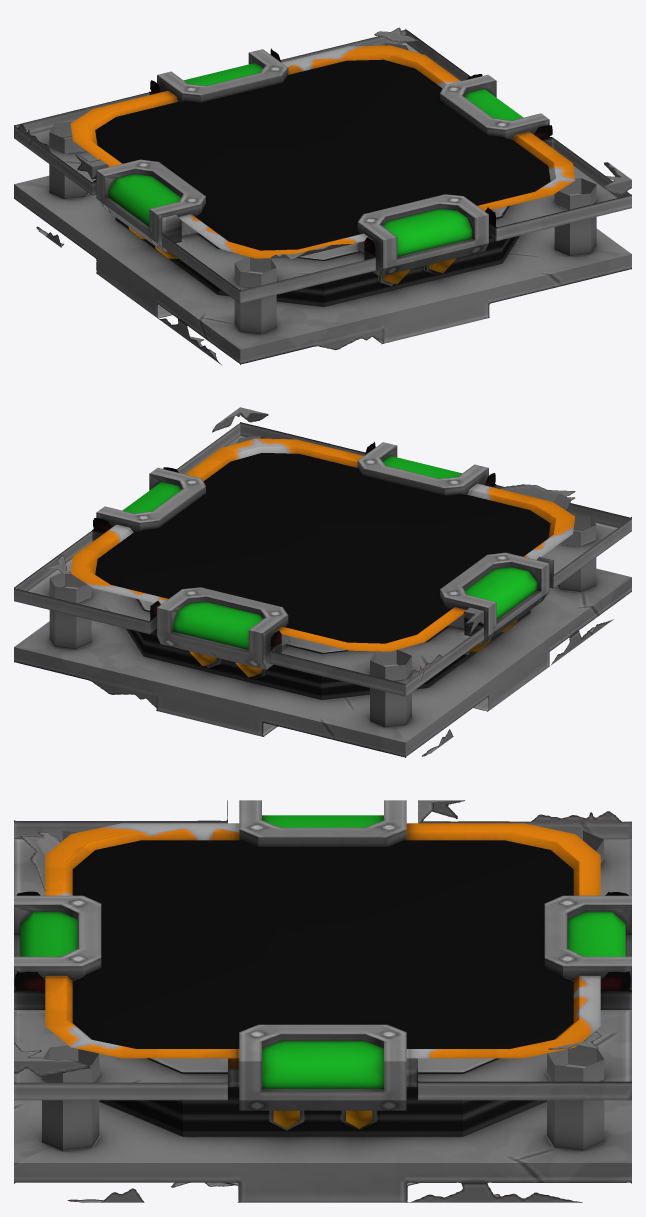
Rendered from obj_interactive_challengetrigger_on.fbx.
3 views of the same model, one above another, from view 1: azimuth 30°, elevation 25°; view 2: azimuth 150°, elevation 25°; view 3: azimuth 270°, elevation 25° (orthographic). The views are drawn at different scales.
Parts seen in each view (by area): view 1: trigger_on; view 2: trigger_on; view 3: trigger_on.
Boxes of the visible parts, bbox=[...] form: trigger_on: bbox=[14, 27, 631, 364]; trigger_on: bbox=[14, 407, 631, 757]; trigger_on: bbox=[14, 800, 631, 1202].
Bounding box in the file's own units: 4 × 1.01 × 4.
